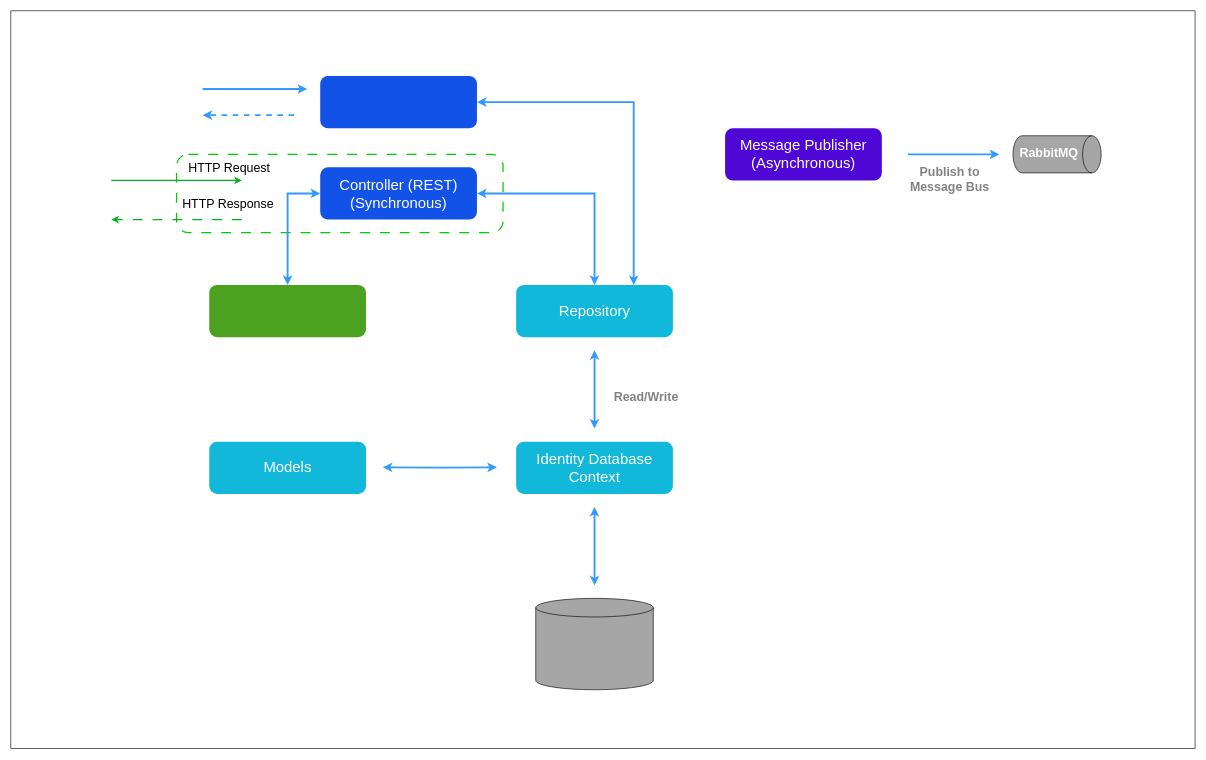
Some shapes in this 1206 by 760 pixel diagram are drawn without their labels. Each missing label, with the centre of its shape:
gRPC service (Synchronous): point (398, 102)
SQL Server Database: point (594, 644)
Token Service: point (287, 311)
